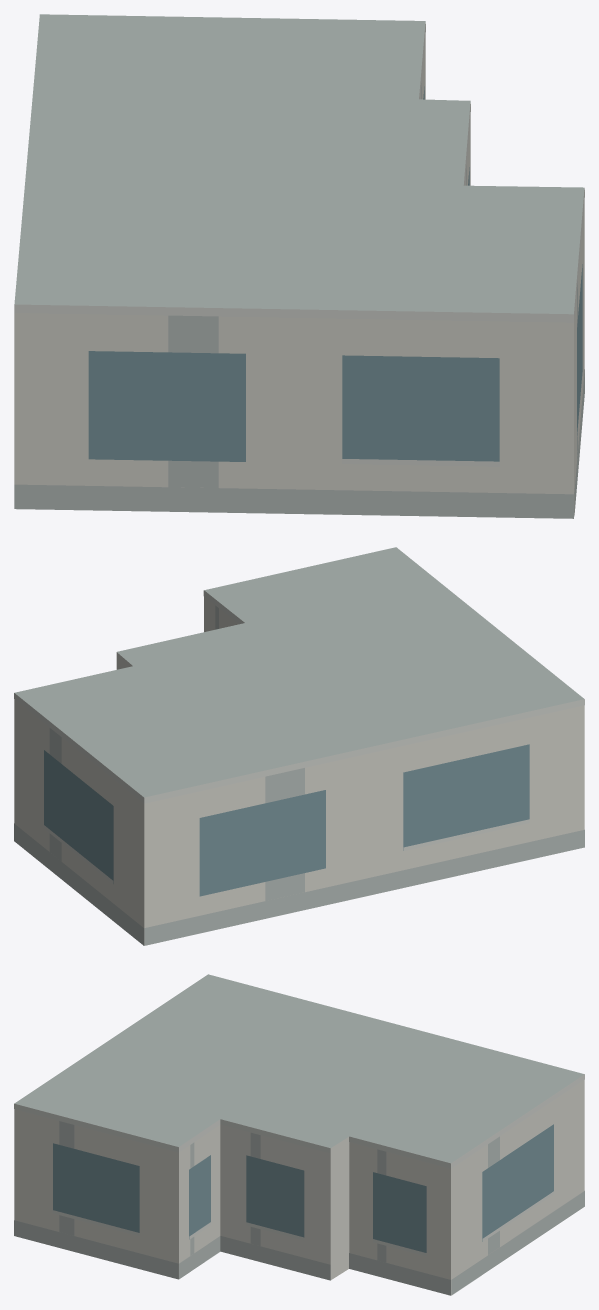
The model's file is residential-e3b585d7-76aa-4bb8-8da3-94c68dc7d83a.glb.
3 renders of one model, top to bottom at view 1: azimuth 30°, elevation 25°; view 2: azimuth 150°, elevation 25°; view 3: azimuth 270°, elevation 25°, orthographic. The views are drawn at different scales.
Visible parts, largest first — view 1: residential-e3b585d7-76aa-4bb8-8da3-94c68dc7d83a.tmp; view 2: residential-e3b585d7-76aa-4bb8-8da3-94c68dc7d83a.tmp; view 3: residential-e3b585d7-76aa-4bb8-8da3-94c68dc7d83a.tmp.
Boxes of the visible parts, <box> form: residential-e3b585d7-76aa-4bb8-8da3-94c68dc7d83a.tmp: <box>14,14,584,518</box>; residential-e3b585d7-76aa-4bb8-8da3-94c68dc7d83a.tmp: <box>14,547,584,945</box>; residential-e3b585d7-76aa-4bb8-8da3-94c68dc7d83a.tmp: <box>14,974,584,1295</box>.
Bounding box in the file's own units: 9.36 × 3.05 × 11.93.
